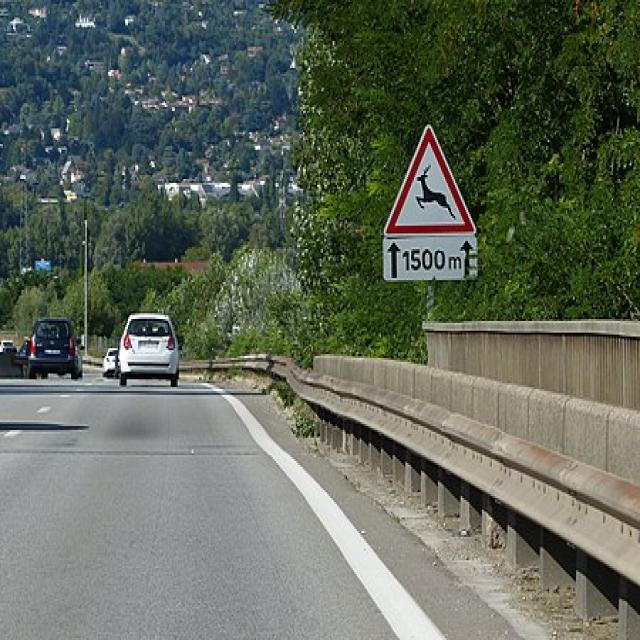animal_danger: (383, 117, 478, 235)
